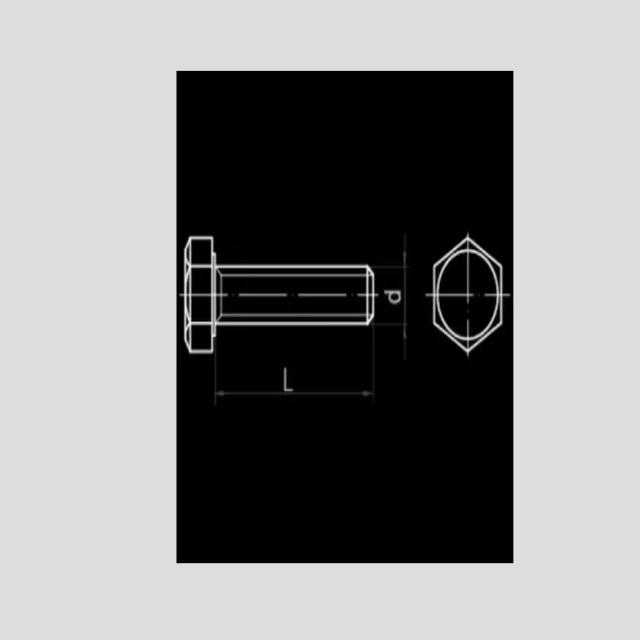marking_line: (214, 344, 374, 405), (377, 235, 412, 358)
